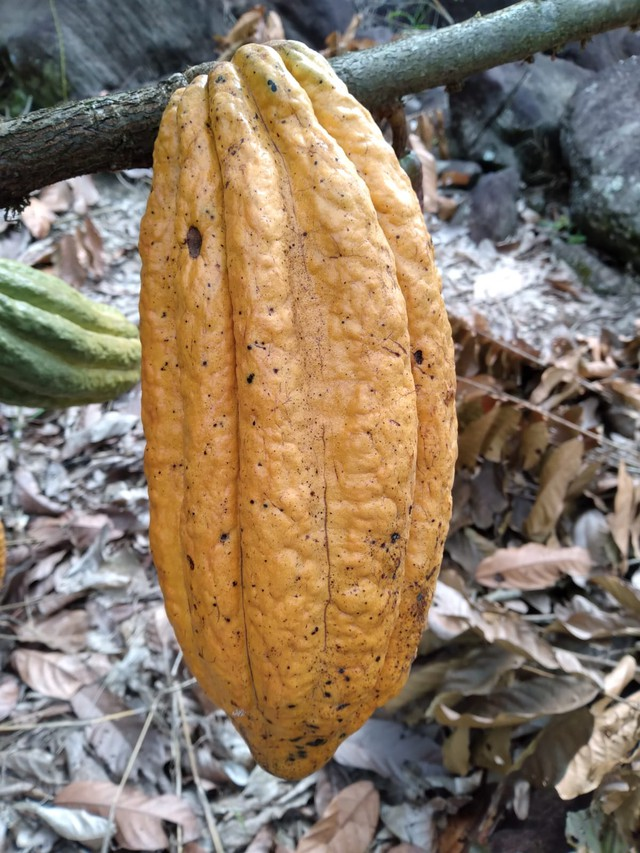Health: (127, 33, 473, 785)
